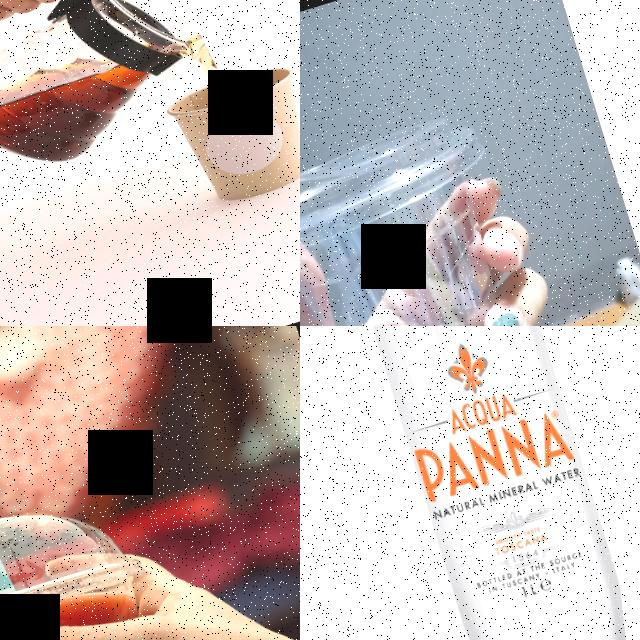bottle: (313, 326, 640, 640)
cup: (300, 104, 564, 326), (0, 475, 225, 640), (160, 58, 300, 215)
